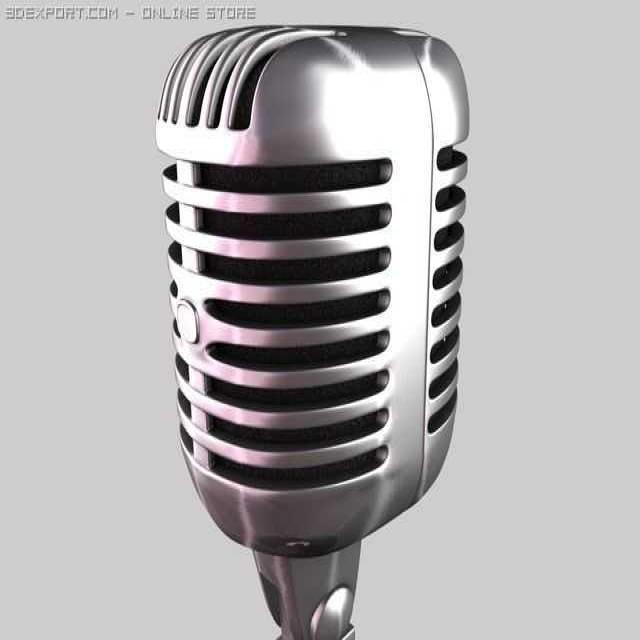microphone: (157, 27, 468, 633)
